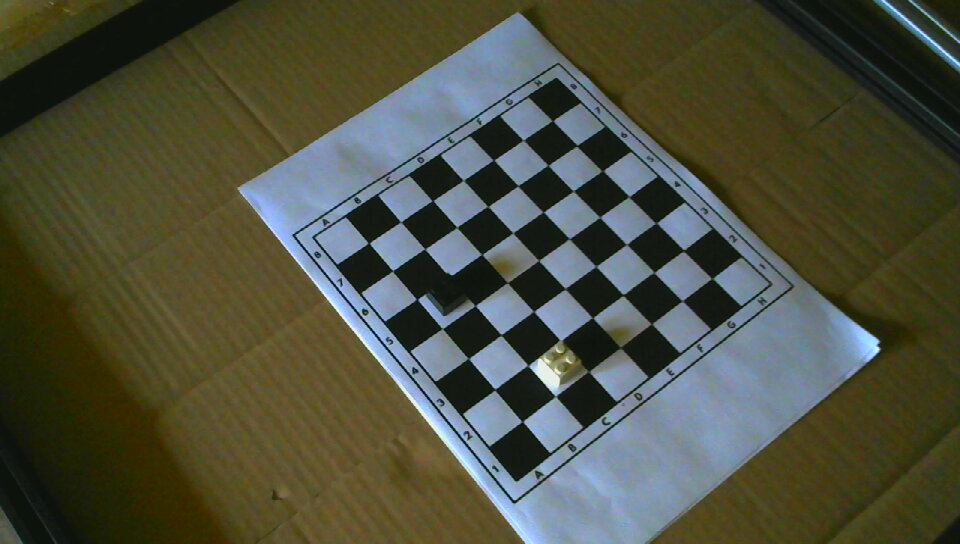bp: (426, 273, 467, 316)
wp: (538, 340, 582, 388)
